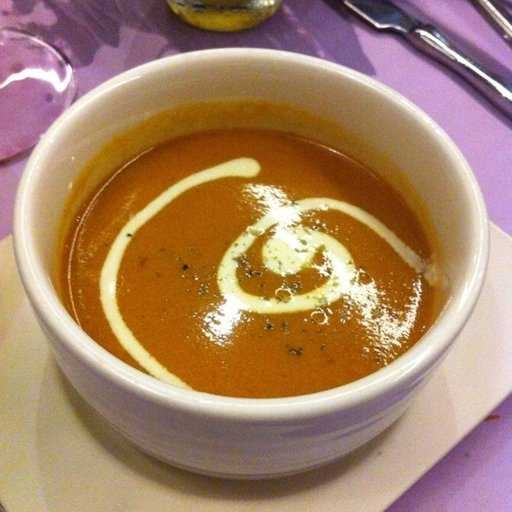soup: (56, 77, 416, 402)
